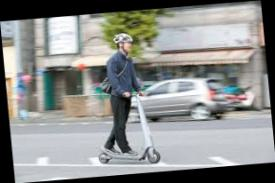helmet: (86, 29, 162, 170)
